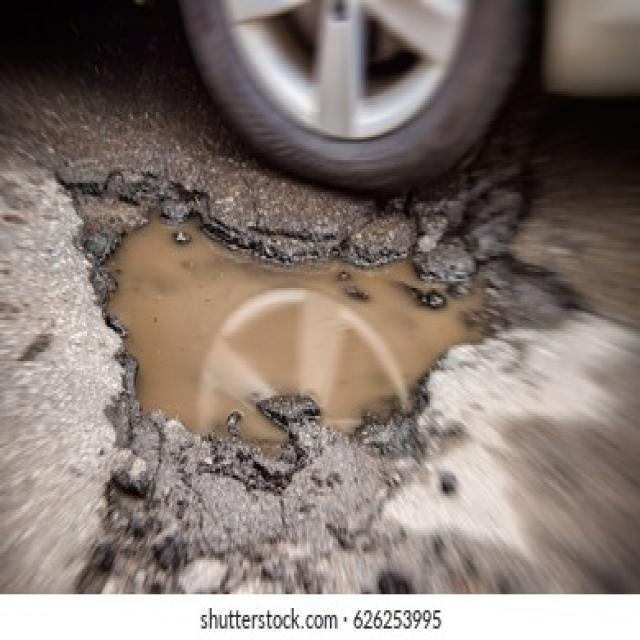pothole: (64, 181, 509, 465)
